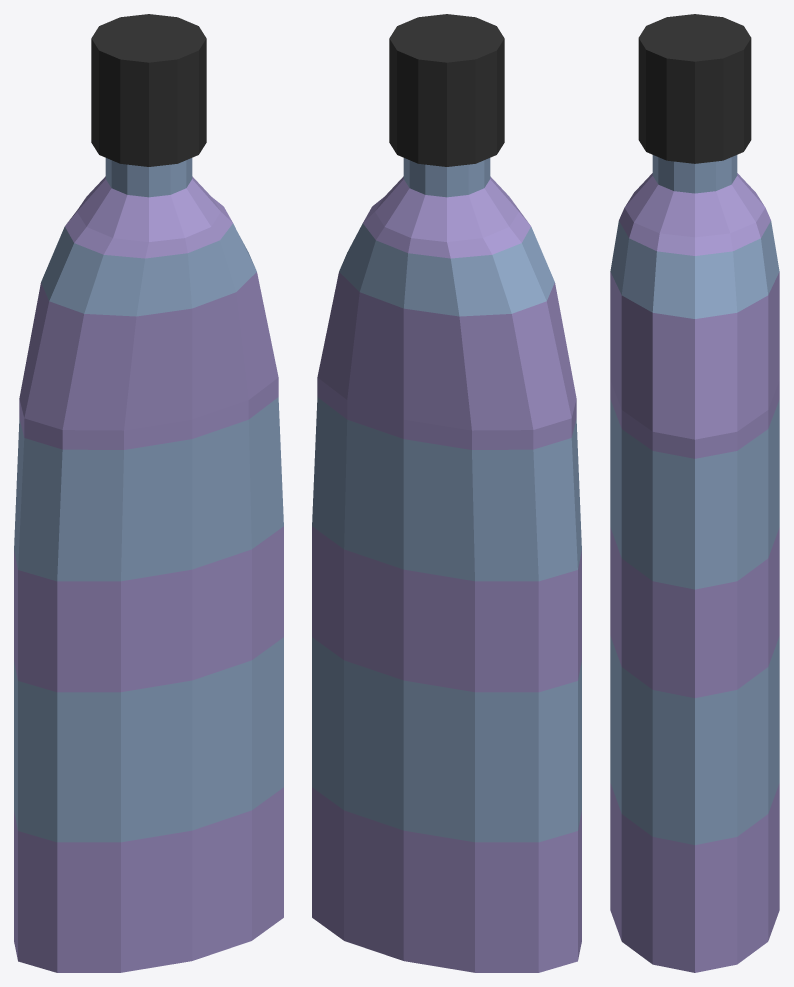
The model's file is Hair Product 2.fbx.
3 views of the same model, side by side, from view 1: azimuth 30°, elevation 25°; view 2: azimuth 150°, elevation 25°; view 3: azimuth 270°, elevation 25° (orthographic). The views are drawn at different scales.
Visible parts, largest first — view 1: Hair Product 2, Lid; view 2: Hair Product 2, Lid; view 3: Hair Product 2, Lid.
Boxes of the visible parts, left/top/right/bottom form: Hair Product 2: left=14, top=158, right=283, bottom=972; Lid: left=91, top=14, right=206, bottom=166; Hair Product 2: left=312, top=158, right=581, bottom=972; Lid: left=389, top=14, right=504, bottom=166; Hair Product 2: left=610, top=155, right=779, bottom=972; Lid: left=638, top=14, right=751, bottom=163.
Bounding box in the file's own units: 58.8 × 191 × 33.6.
